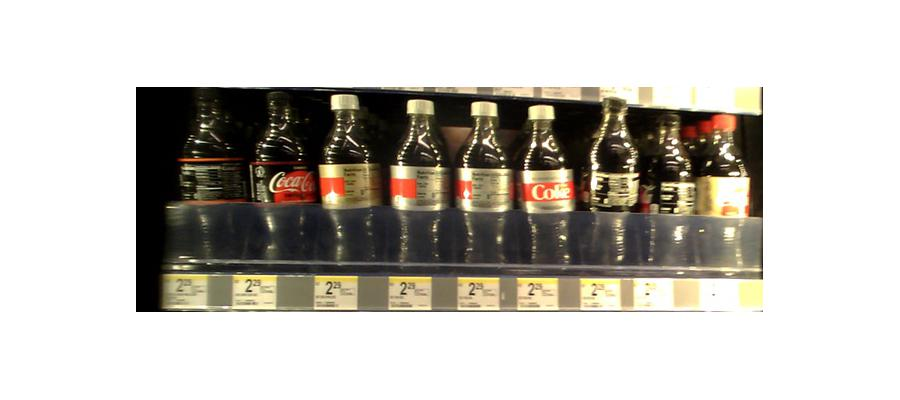bottle: (177, 93, 249, 267), (320, 91, 383, 267), (389, 95, 451, 272), (252, 91, 314, 262), (457, 97, 515, 271), (518, 101, 578, 269), (586, 92, 639, 269), (695, 106, 749, 266), (648, 106, 692, 271)
